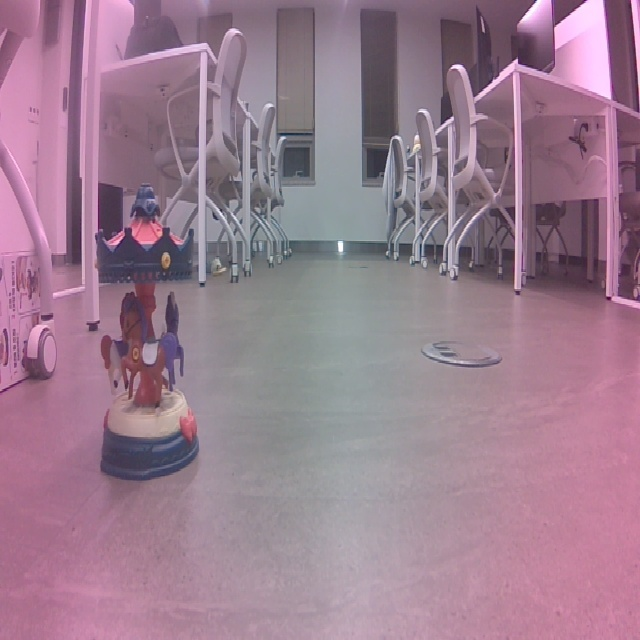목적지: (80, 164, 217, 495)
